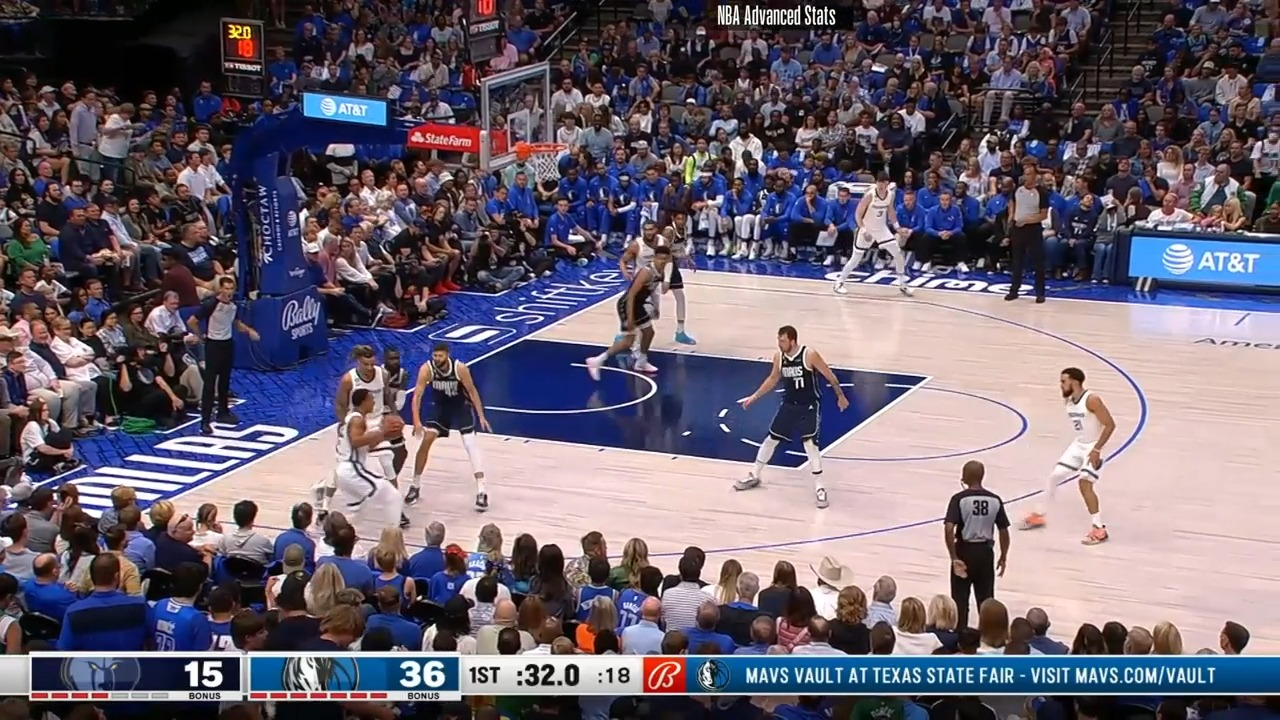net: (512, 140, 568, 186)
player: (733, 322, 852, 511), (1027, 362, 1124, 549), (403, 336, 490, 515), (311, 345, 388, 515), (333, 383, 422, 529), (586, 246, 673, 379), (834, 173, 909, 296), (662, 207, 700, 353), (618, 218, 676, 293), (382, 345, 409, 484)
referee: (187, 268, 264, 438), (943, 455, 1019, 620), (1002, 172, 1050, 309)
